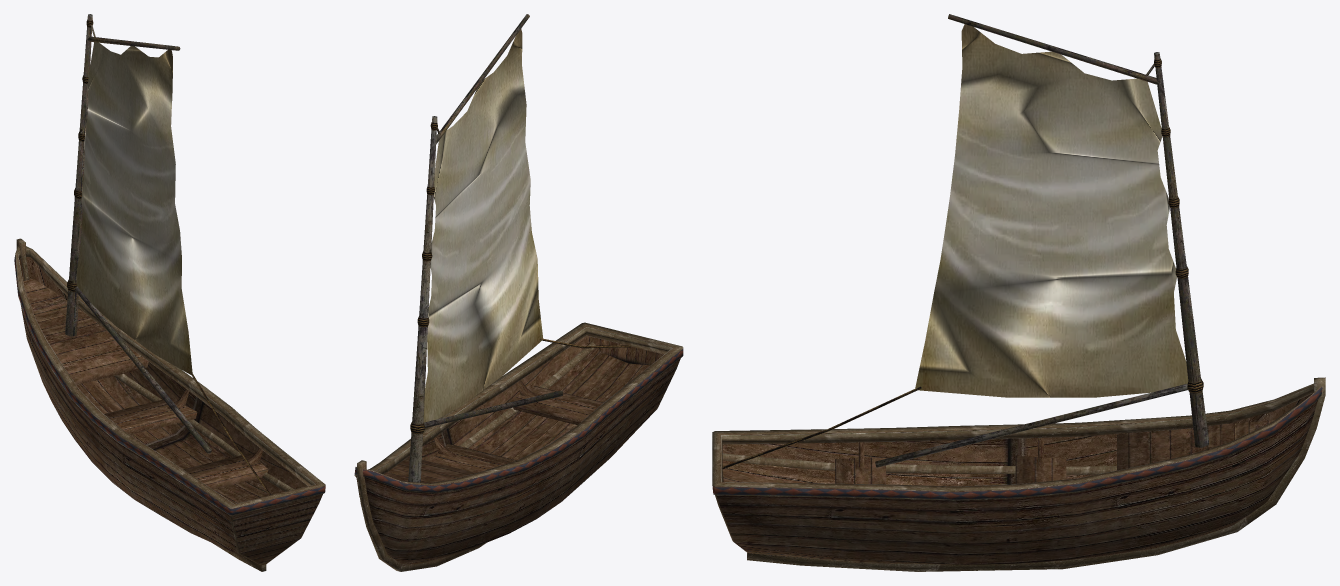
File: KM_VOB_BOAT.glb
The picture shows the model from 3 angles, left to right: view 1: azimuth 30°, elevation 25°; view 2: azimuth 150°, elevation 25°; view 3: azimuth 270°, elevation 25°; orthographic projection. The views are drawn at different scales.
Parts seen in each view (by area): view 1: Mesh; view 2: Mesh; view 3: Mesh.
Part boxes in pixels (left/top/right/bottom): Mesh: left=14, top=14, right=325, bottom=571; Mesh: left=354, top=14, right=683, bottom=571; Mesh: left=712, top=14, right=1325, bottom=571.
Bounding box in the file's own units: 1.55 × 6.14 × 6.13.
Materials: 6 (6 with a texture image).
